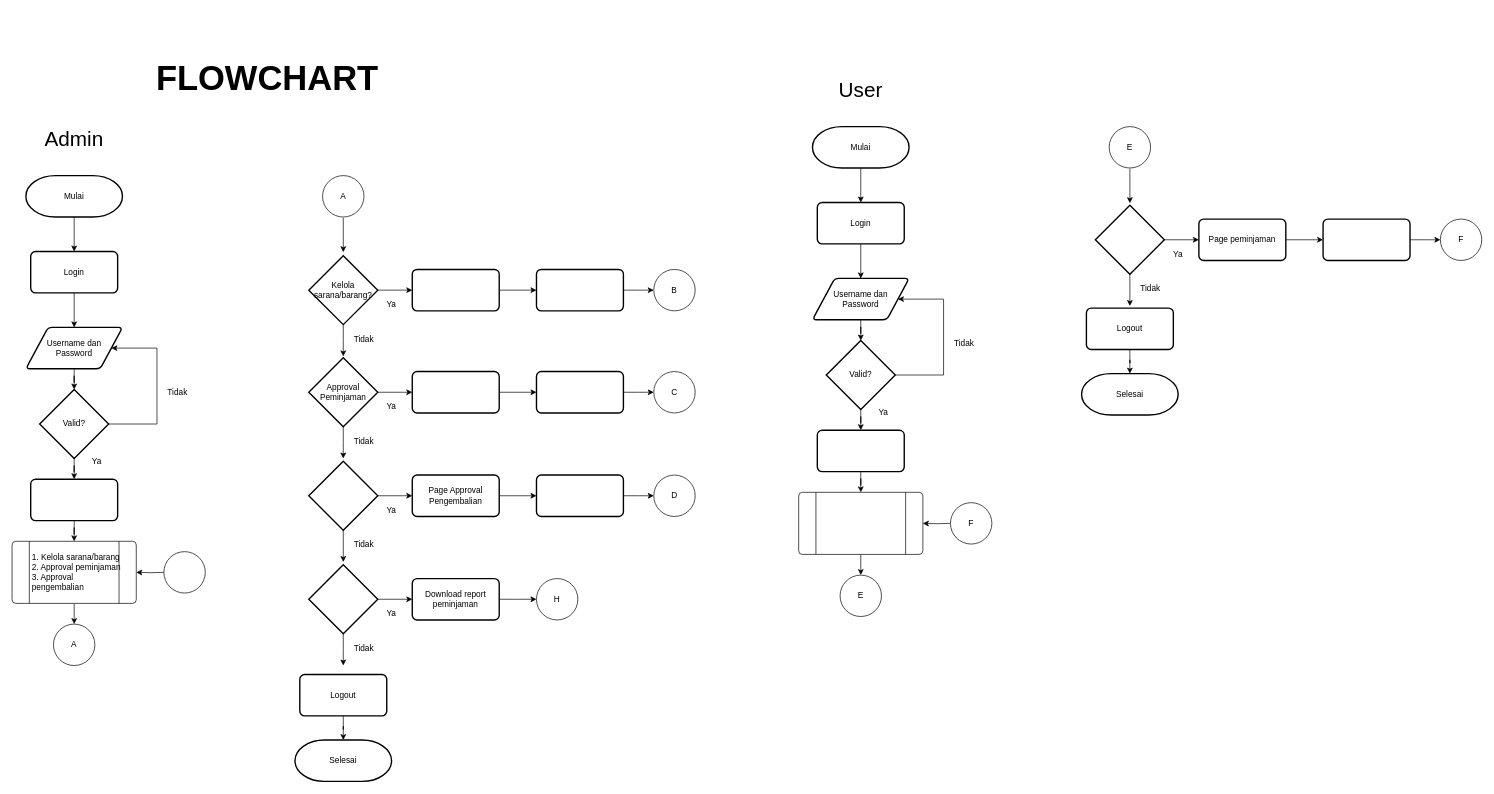
This 1494x794 diagram has some shape labels left out. Each missing label, with the centre of its shape:
1. Peminjaman atau pengembalian: the point at 860,523
Approval Pengembalian: the point at 343,495
B, C, D, H: the point at 184,572
CREATE, READ Peminjaman & Pengembalian: the point at 1366,239
CRUD sarana/barang: the point at 579,289
Dashboard Admin: the point at 74,499
Dashbpard User: the point at 860,450
Page Approval Peminjaman: the point at 455,392
Page kelola sarana/barang: the point at 455,289
Peminjaman atau pengembalian: the point at 1129,239
READ, UPDATE Peminjaman: the point at 579,392
READ, UPDATE Pengembalian: the point at 579,495
Report peminjaman: the point at 343,599
